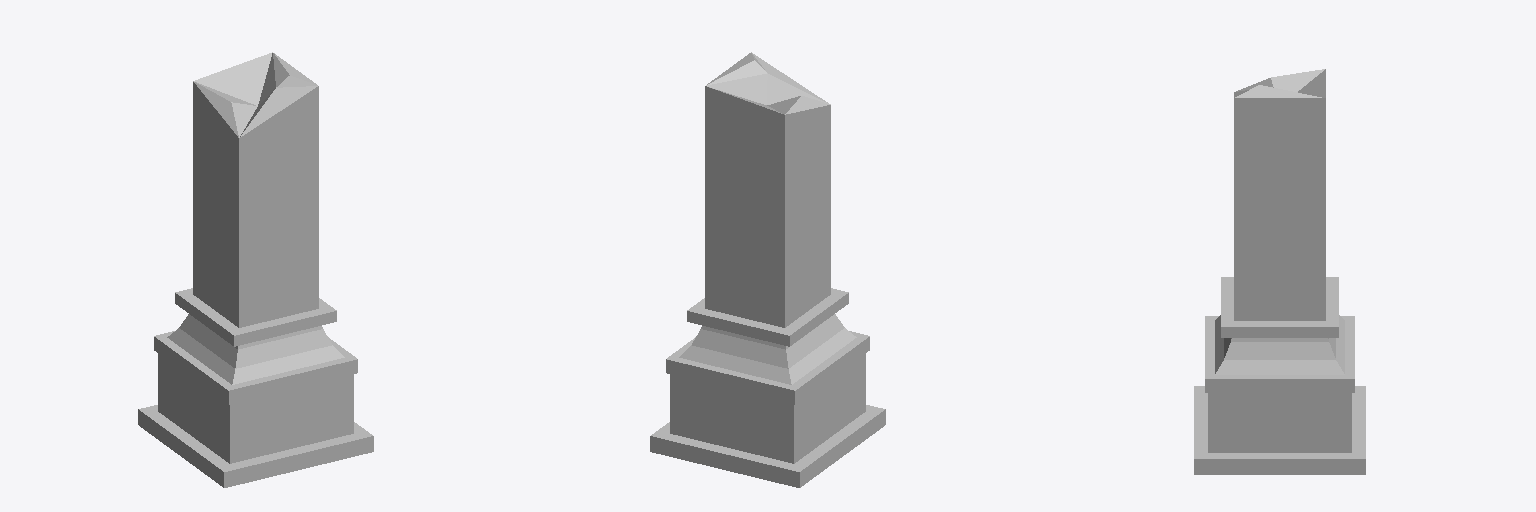
Rendered from Column 1.1.obj.
3 views of the same model, side by side, from view 1: azimuth 30°, elevation 25°; view 2: azimuth 150°, elevation 25°; view 3: azimuth 270°, elevation 25° (orthographic).
Size of the model in its own units: 0.8217 by 1.92 by 0.8217.